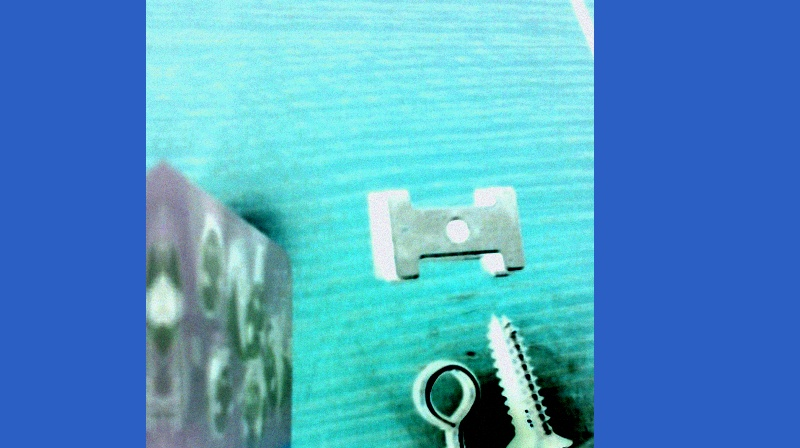O001: (413, 357, 482, 447)
O002: (371, 181, 527, 288)
S001: (489, 310, 576, 447)
